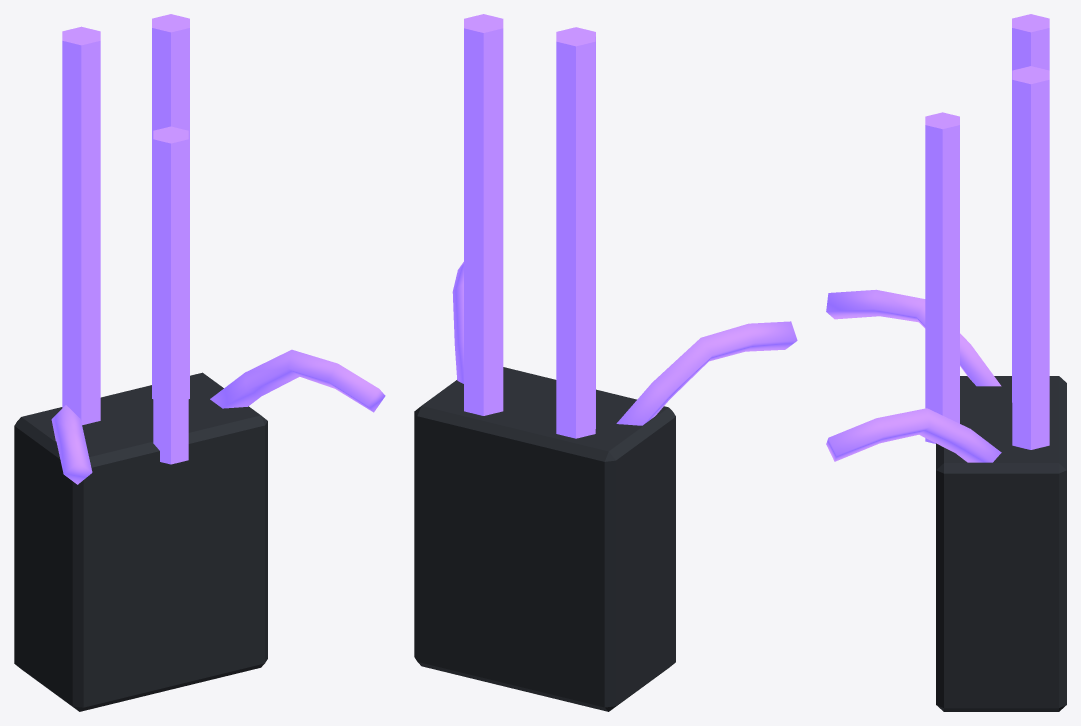
File: dc_conduit_pack_violet.glb
3 views of the same model, side by side, from view 1: azimuth 30°, elevation 25°; view 2: azimuth 150°, elevation 25°; view 3: azimuth 270°, elevation 25° (orthographic). The views are drawn at different scales.
Parts seen in each view (by area): view 1: part.dc_conduit_pack_violet; view 2: part.dc_conduit_pack_violet; view 3: part.dc_conduit_pack_violet.
Part boxes in pixels (x1,y1,x2,y2): part.dc_conduit_pack_violet: [14, 14, 385, 711]; part.dc_conduit_pack_violet: [414, 14, 797, 711]; part.dc_conduit_pack_violet: [826, 14, 1066, 711].
Bounding box in the file's own units: 0.5608 × 1.05 × 0.3683.
